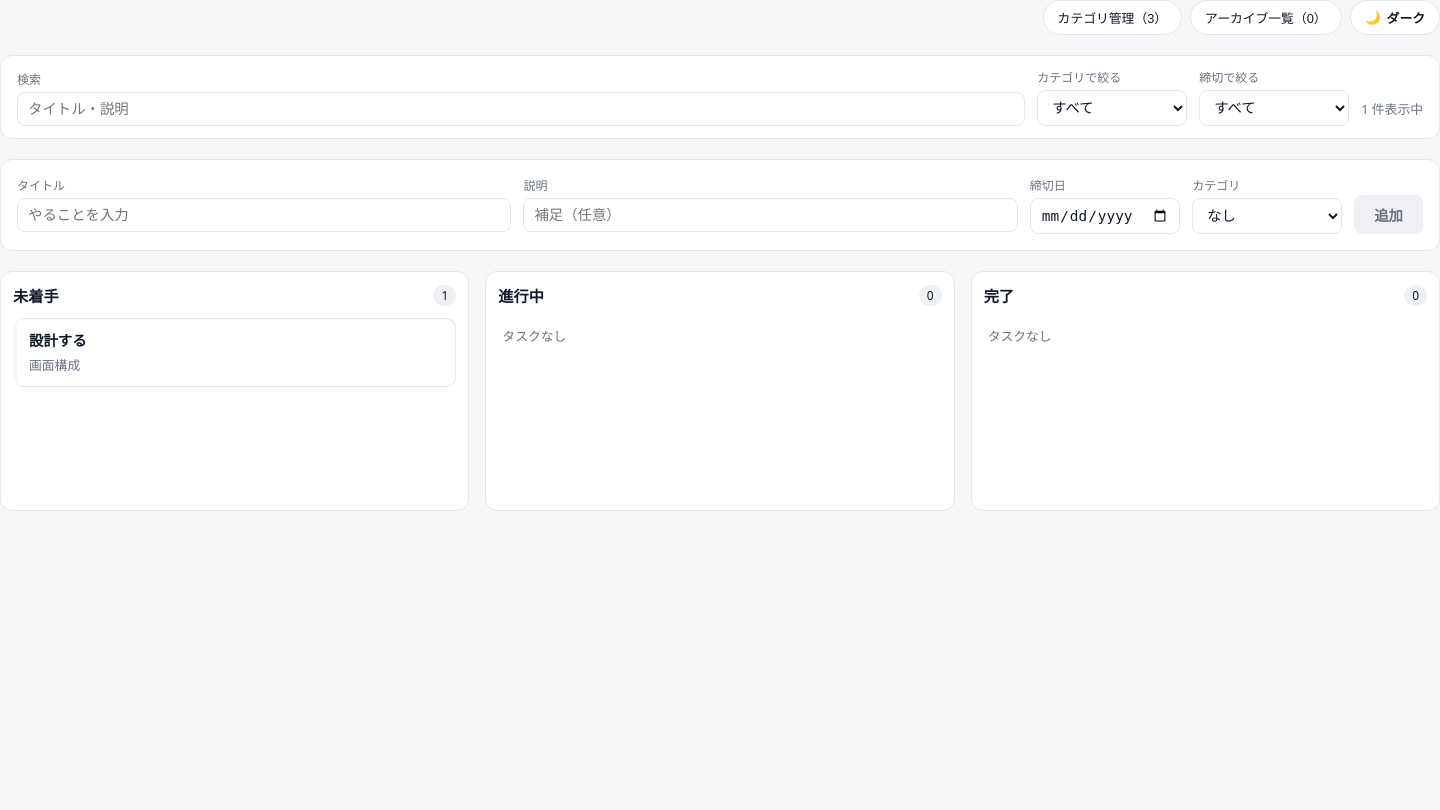
it: KanbanBoard › カードをクリックすると詳細が開く
The width and height of the screenshot is (1440, 810).
Click the button with test id "task-1".
click(58, 341)  # box [13,318,456,387]
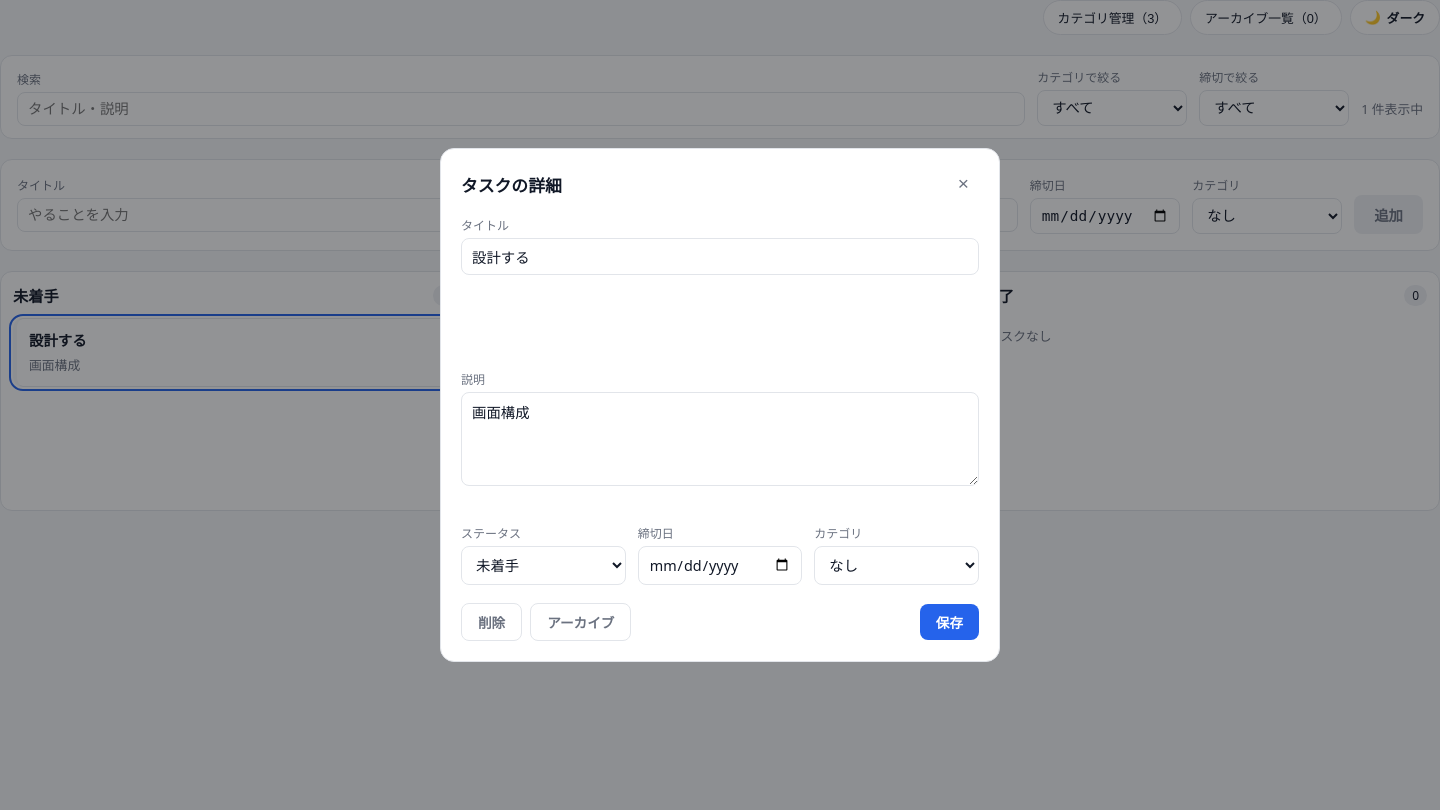
Result: the field labelled "タイトル" holds "設計する" at [461,238,979,275]
Result: the text box labelled "説明" holds "画面構成" at [461,392,979,486]
